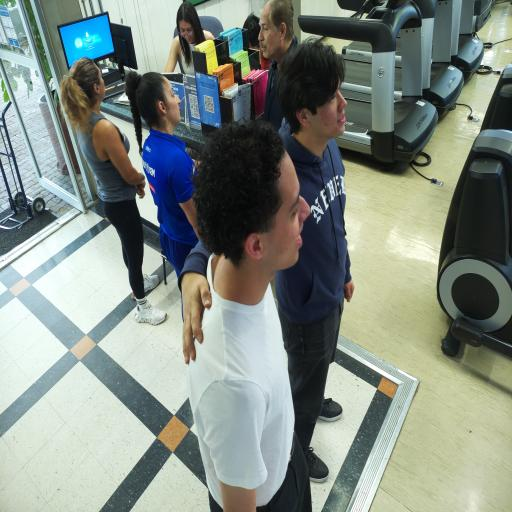person: (186, 121, 311, 511), (276, 39, 354, 481), (61, 58, 166, 324), (126, 72, 198, 277), (259, 0, 297, 130), (165, 2, 214, 75), (243, 13, 270, 69)
